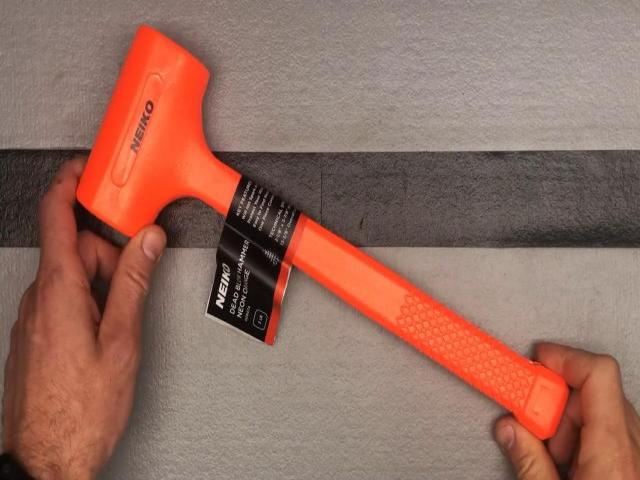hammer: (77, 25, 569, 437)
